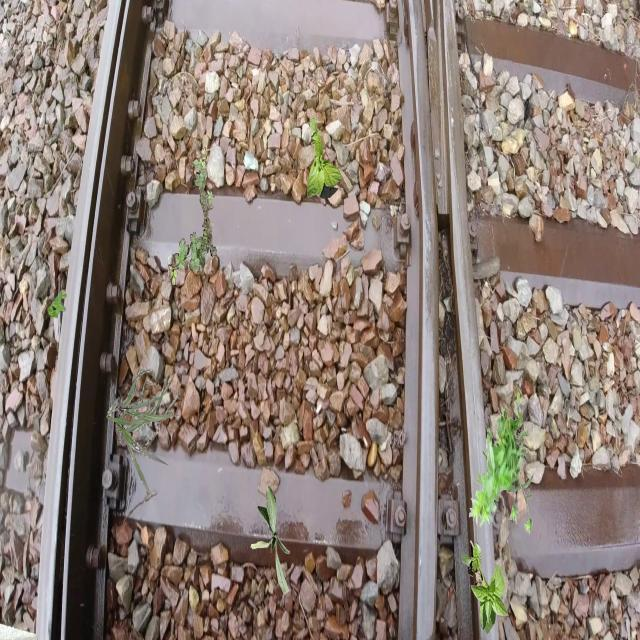Plant: (469, 392, 534, 536), (106, 370, 179, 494), (168, 147, 217, 285), (462, 540, 510, 635), (251, 486, 291, 596), (307, 116, 342, 200), (47, 289, 66, 322)
